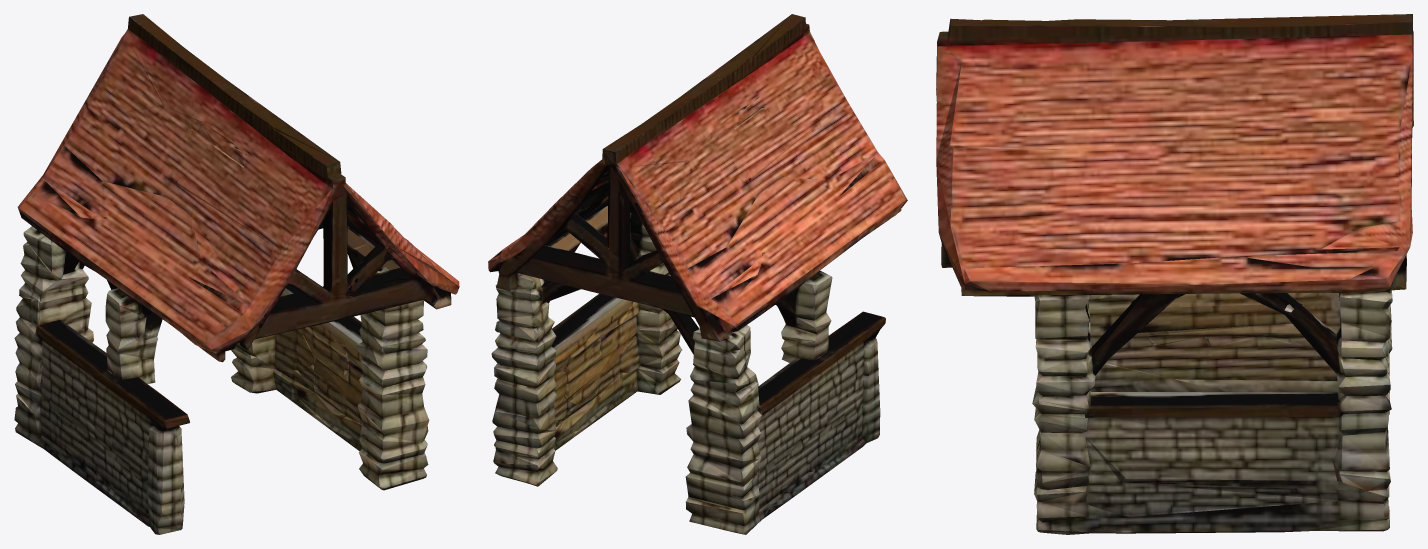
File: blacksmith_forge_01.glb
The picture shows the model from 3 angles, left to right: view 1: azimuth 30°, elevation 25°; view 2: azimuth 150°, elevation 25°; view 3: azimuth 270°, elevation 25°; orthographic projection. The views are drawn at different scales.
Parts seen in each view (by area): view 1: geometry_0; view 2: geometry_0; view 3: geometry_0.
Boxes of the visible parts, bbox=[...] form: geometry_0: bbox=[14, 14, 459, 534]; geometry_0: bbox=[488, 14, 907, 534]; geometry_0: bbox=[936, 14, 1413, 534].
Size of the model in its own units: 0.7452 by 0.9963 by 0.9708.
1 material, 1 textured.
